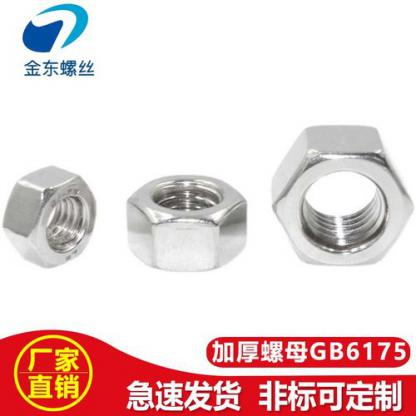FOD: (267, 124, 415, 270), (126, 171, 250, 273), (0, 164, 99, 269)
